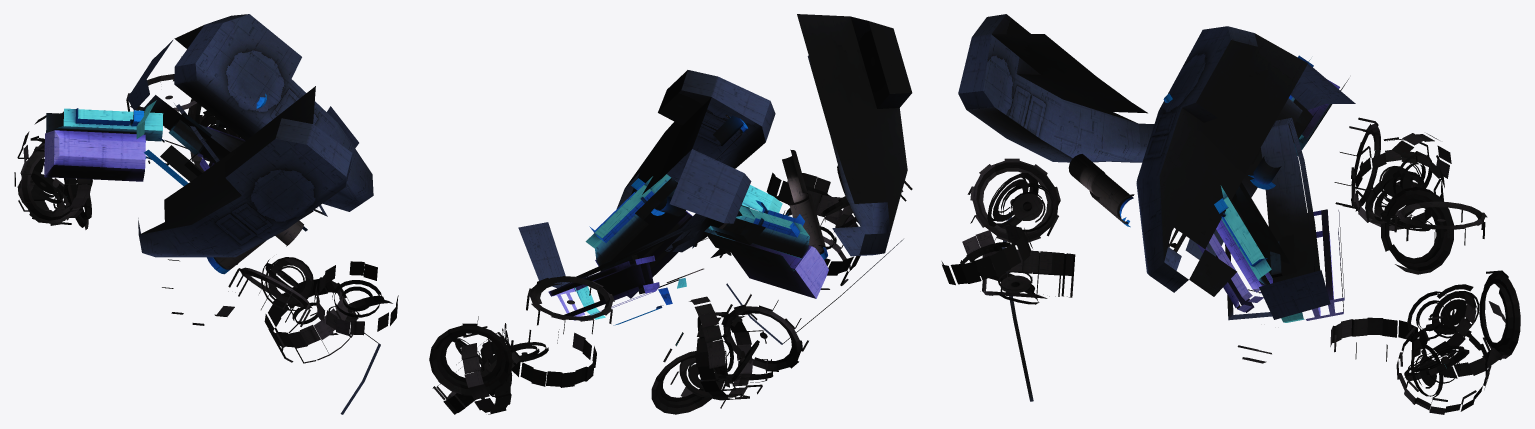
The model's file is PlayerA_Die17.obj.
3 views of the same model, side by side, from view 1: azimuth 30°, elevation 25°; view 2: azimuth 150°, elevation 25°; view 3: azimuth 270°, elevation 25° (orthographic). The views are drawn at different scales.
Parts seen in each view (by area): view 1: Object001; view 2: Object001; view 3: Object001.
Boxes of the visible parts, x1,y1,x2,y2 form: Object001: (14,14,398,414); Object001: (429,14,912,414); Object001: (941,14,1520,414).
Size of the model in its own units: 170 by 173 by 252.
1 material, 1 textured.
